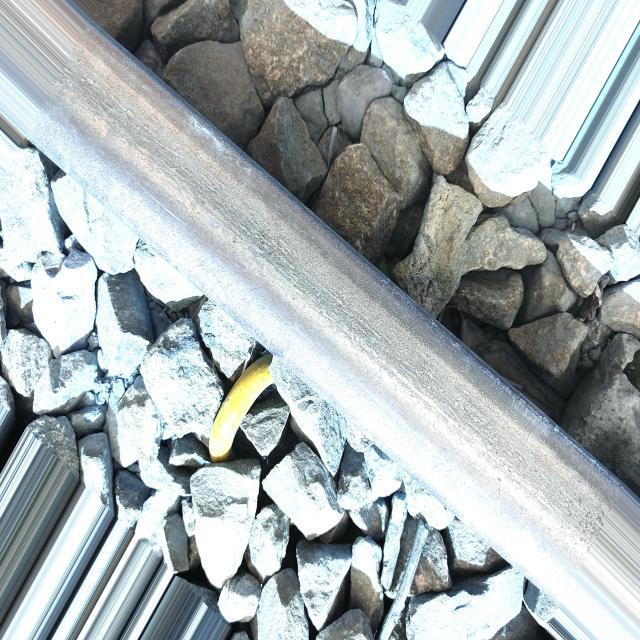Good Fasteners: (209, 355, 272, 462)
